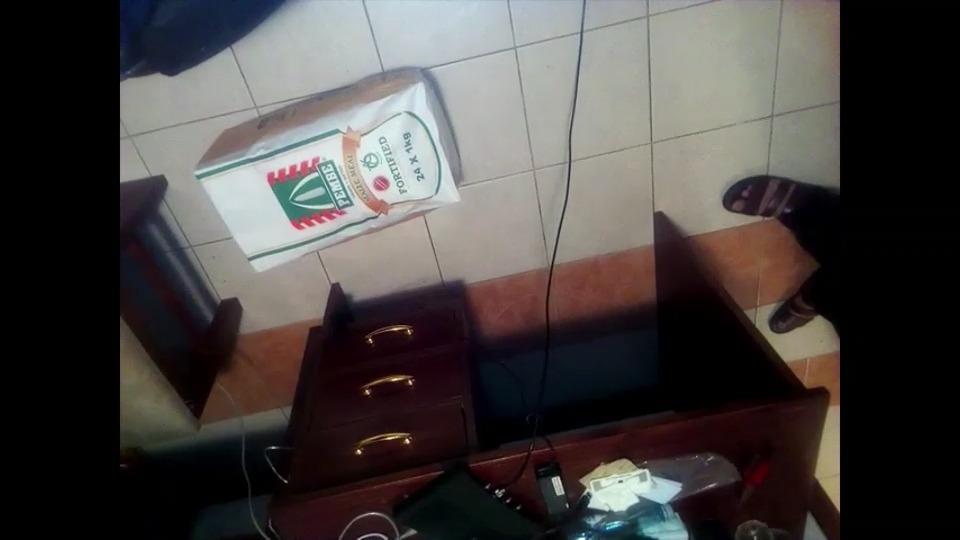maize_flour_green_label: (199, 68, 458, 270)
